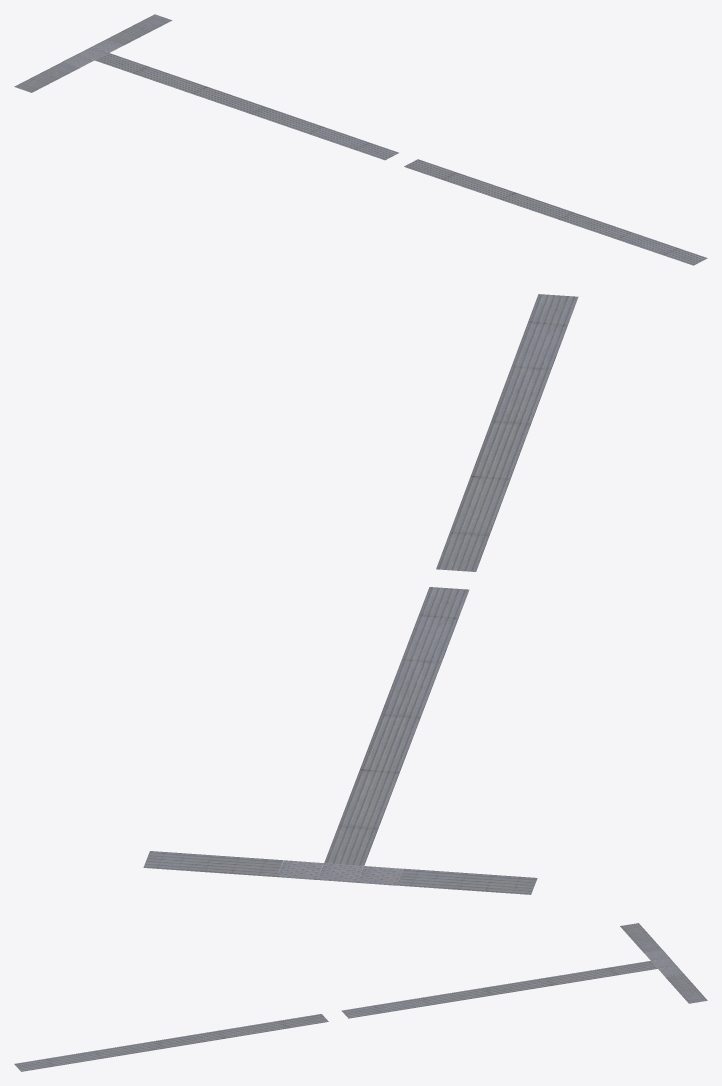
File: JRP_ripped_elements.FBX
The picture shows the model from 3 angles, top to bottom: view 1: azimuth 30°, elevation 25°; view 2: azimuth 150°, elevation 25°; view 3: azimuth 270°, elevation 25°; orthographic projection. The views are drawn at different scales.
Visible parts, largest first — view 1: ribbed_A002, ribbed_A001, ribbed_A003, ribbed_A004; view 2: ribbed_A002, ribbed_A001, ribbed_A003, ribbed_A004; view 3: ribbed_A002, ribbed_A001, ribbed_A003, ribbed_A004.
Part boxes in pixels (x1,y1,x2,y2): ribbed_A002: (95,53,398,160); ribbed_A001: (404,159,707,265); ribbed_A003: (107,14,172,45); ribbed_A004: (14,62,79,92); ribbed_A002: (324,587,469,865); ribbed_A001: (436,294,578,571); ribbed_A003: (143,851,283,876); ribbed_A004: (397,868,537,894); ribbed_A002: (341,961,657,1018); ribbed_A001: (14,1014,328,1071); ribbed_A003: (665,974,707,1003); ribbed_A004: (620,923,662,952).
Bounding box in the file's own units: 520 × 6.28e-14 × 1025.
2 materials, 2 textured.
